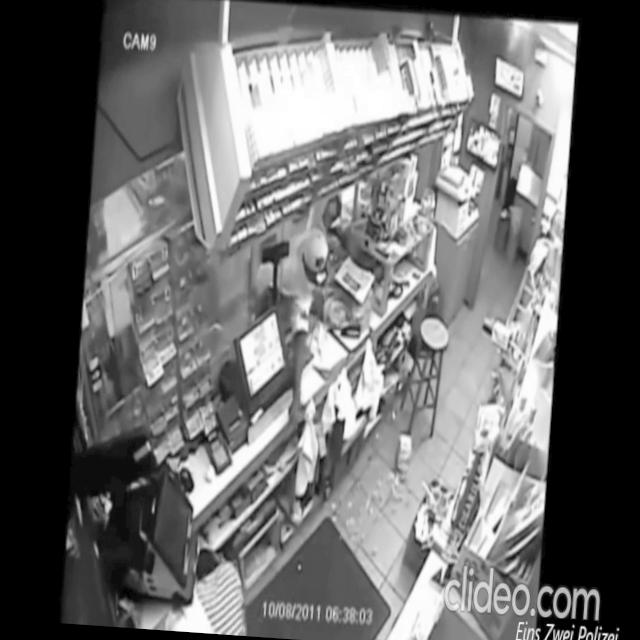gun: (294, 412, 308, 446)
person with a gun: (262, 224, 332, 449)
